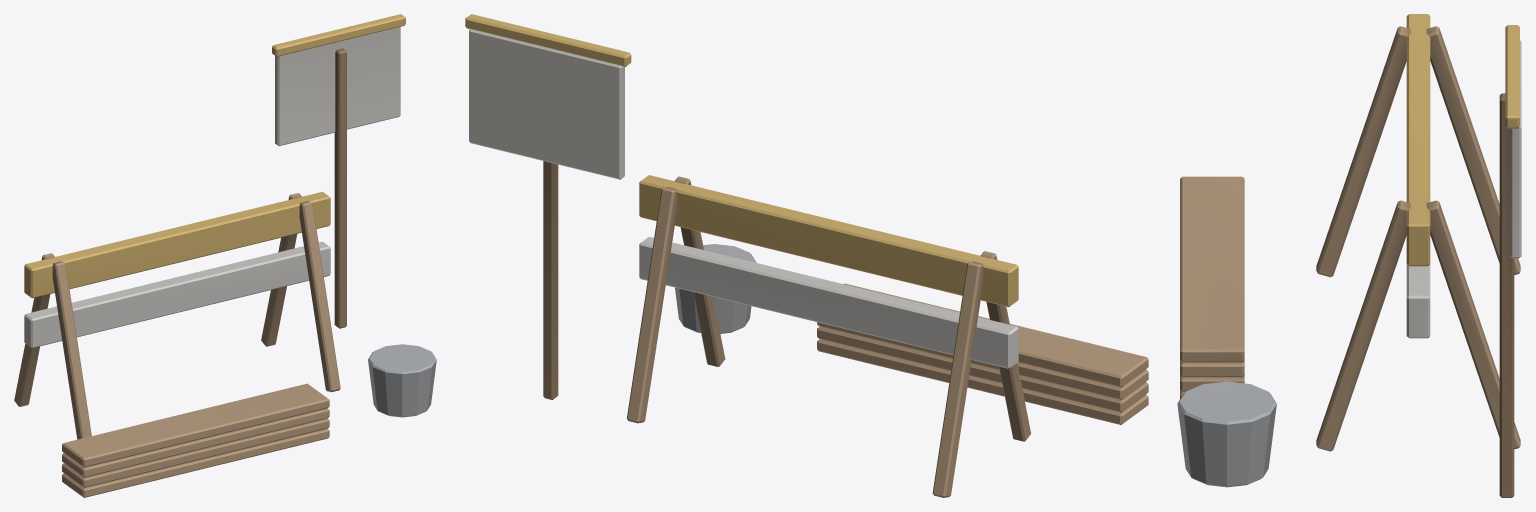
The model's file is home_build_sign__base.glb.
3 views of the same model, side by side, from view 1: azimuth 30°, elevation 25°; view 2: azimuth 150°, elevation 25°; view 3: azimuth 270°, elevation 25° (orthographic). The views are drawn at different scales.
Bounding box in the file's own units: 2.47 × 1.61 × 1.17.
